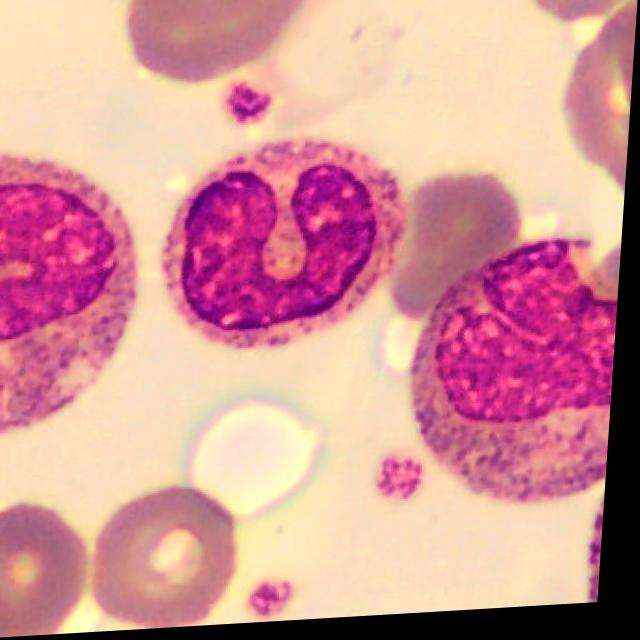Bastonete: (164, 145, 405, 356)
